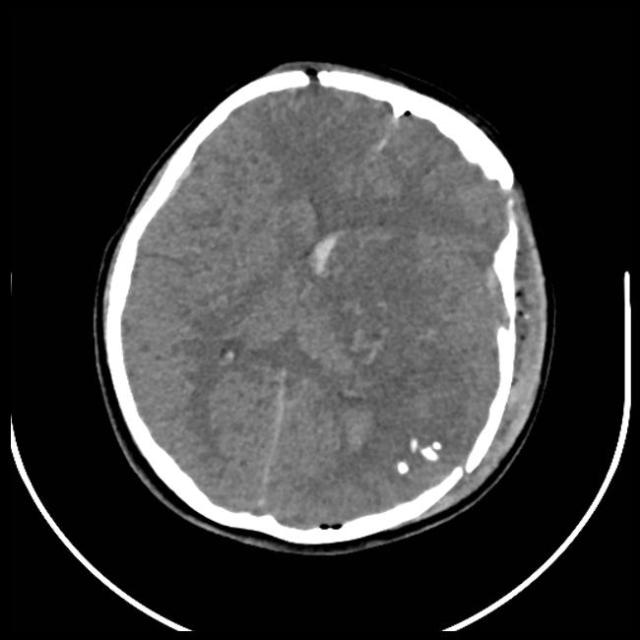lesion: (99, 65, 546, 543)
